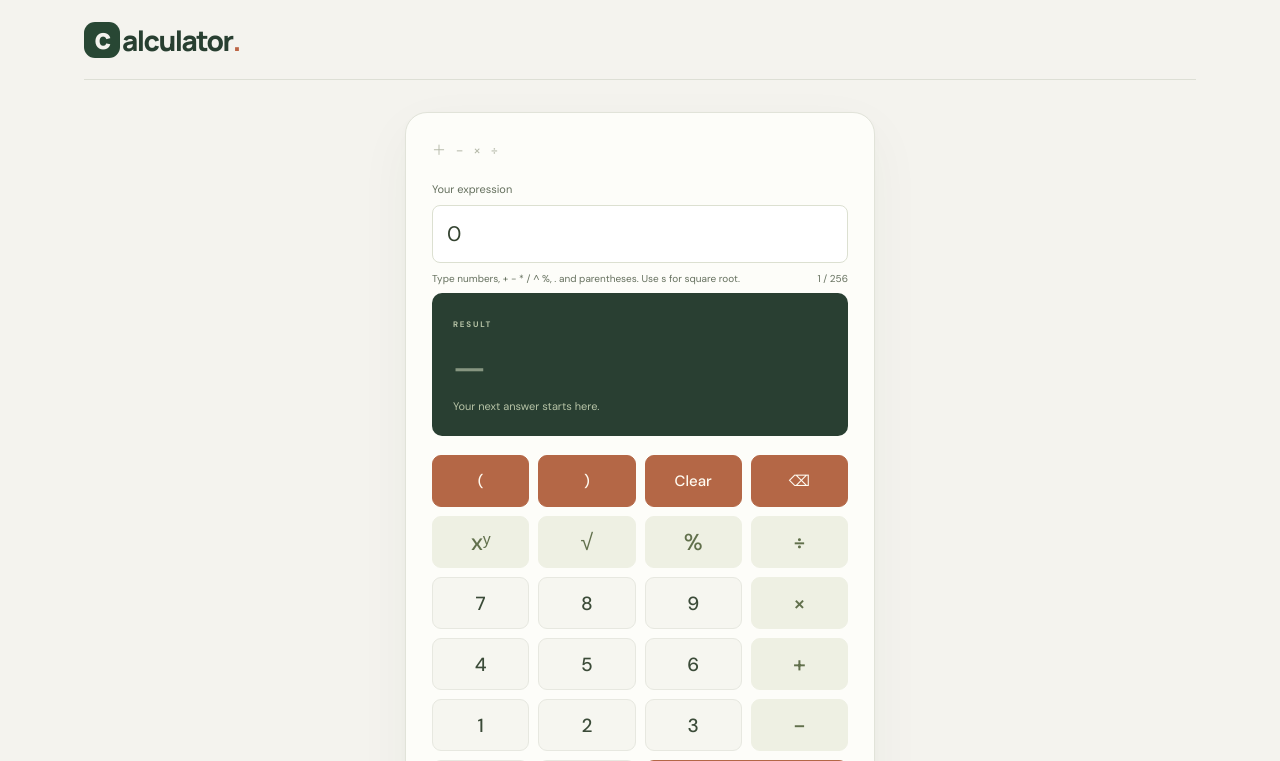
it: calculator form › handles the initial and cleared zero with the Add keypad key
Click the button named "Add". click: (799, 664)
box: top-left (751, 638), bottom-right (848, 690)
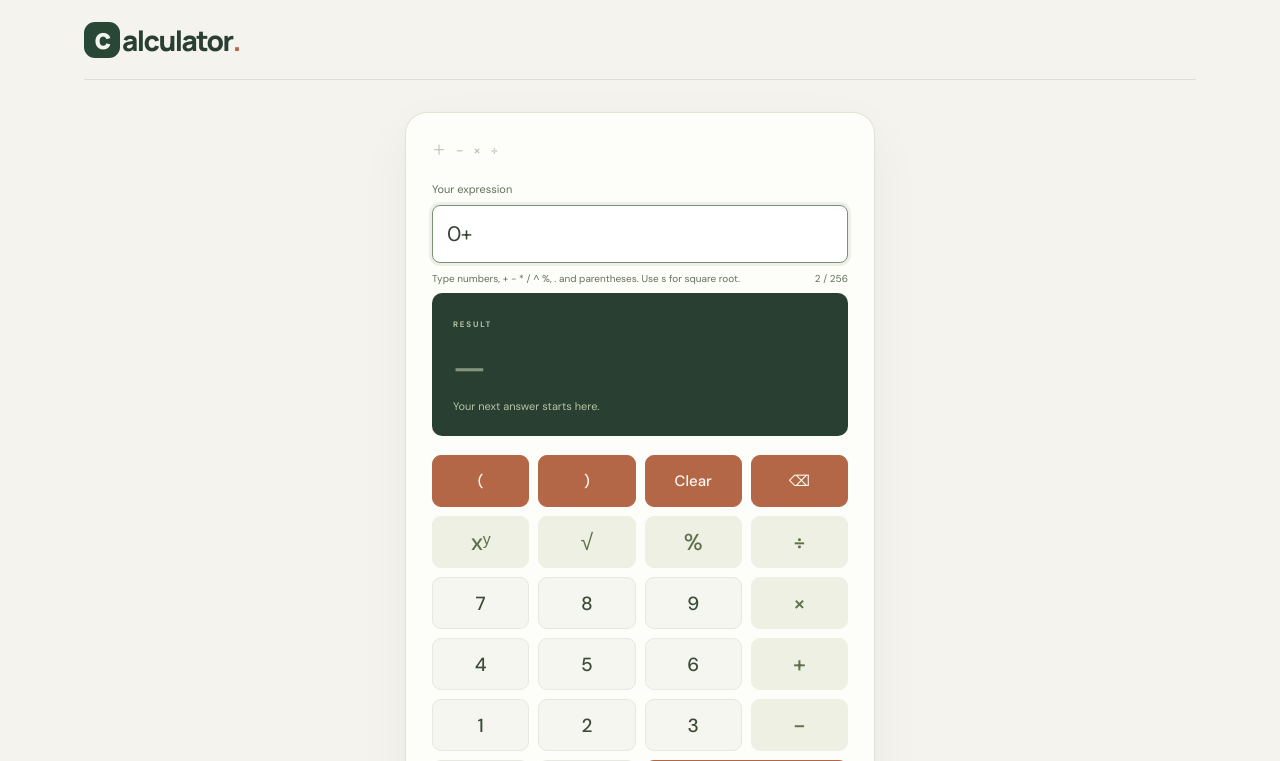
Result: the field labelled "Your expression" holds "0+" at top-left (432, 205), bottom-right (848, 263)
Click the button "Clear". click: (693, 481)
box: top-left (644, 455), bottom-right (742, 507)
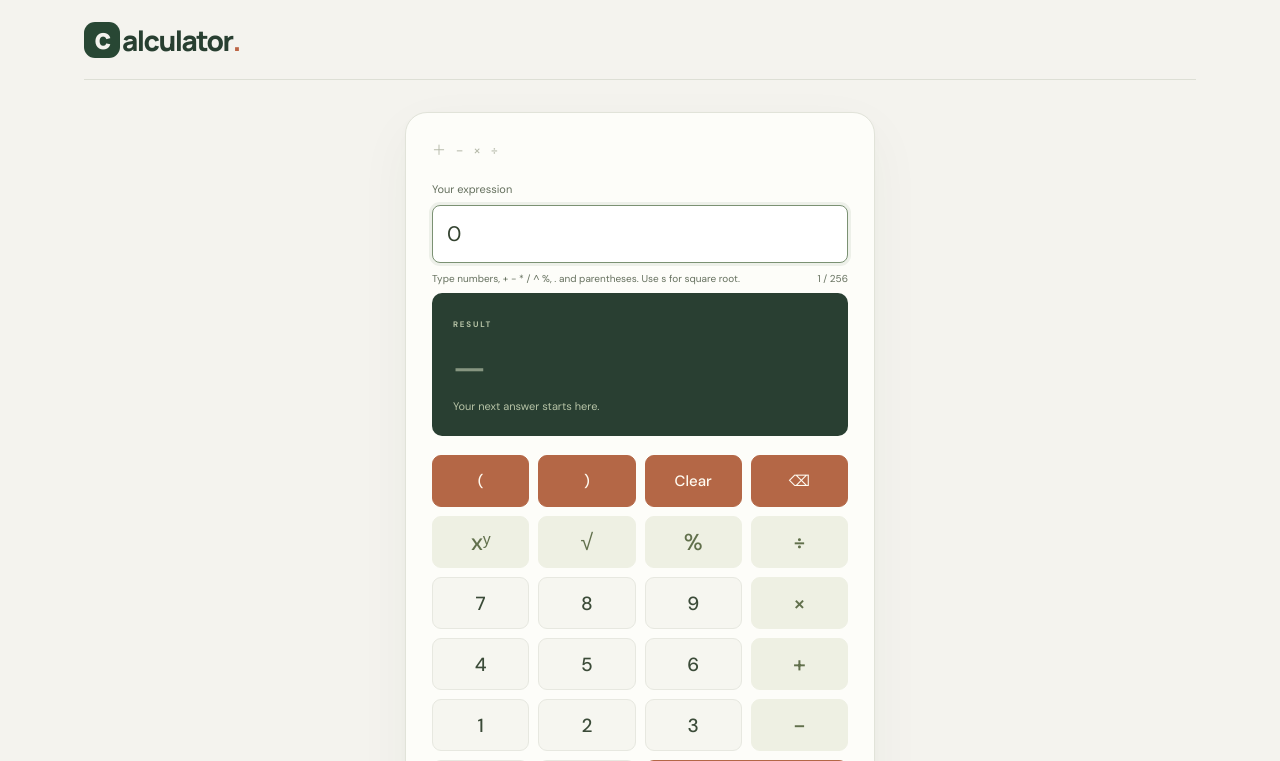
Click the button named "Add". click: (799, 664)
box: top-left (751, 638), bottom-right (848, 690)
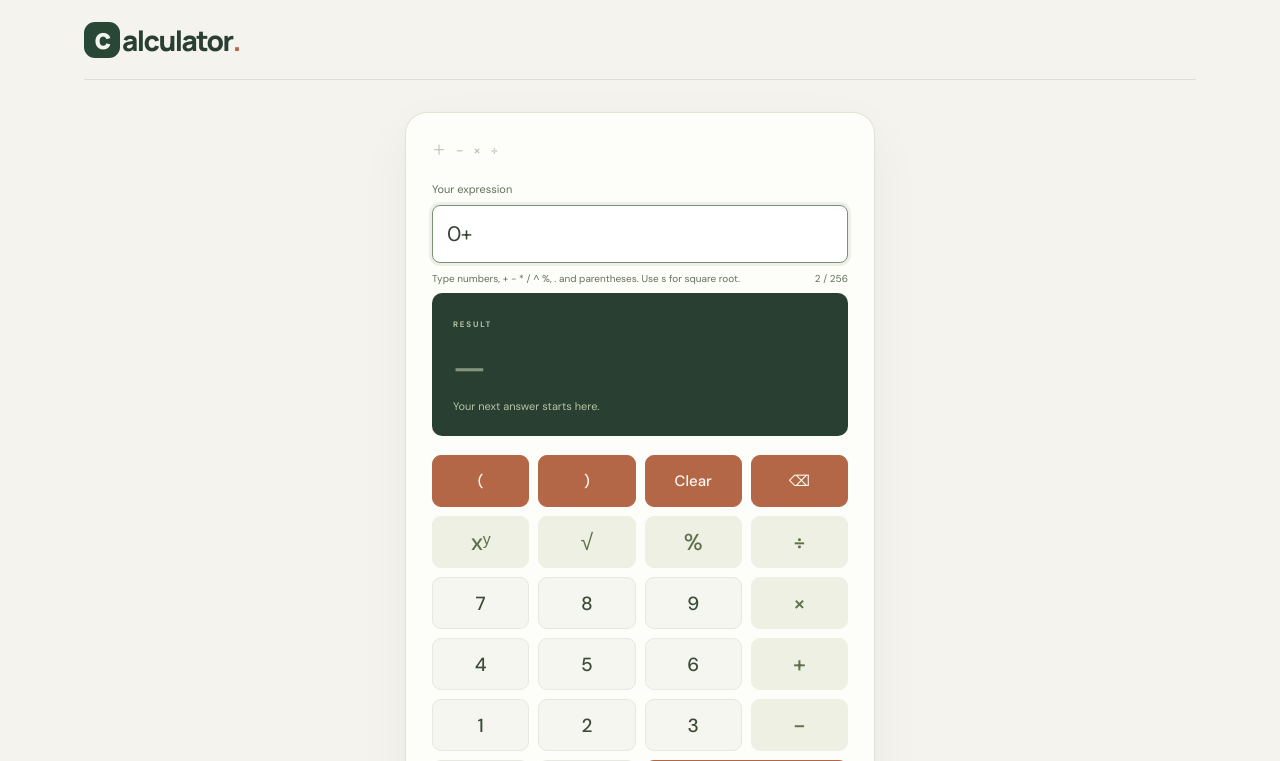
Result: the field labelled "Your expression" holds "0+" at top-left (432, 205), bottom-right (848, 263)
